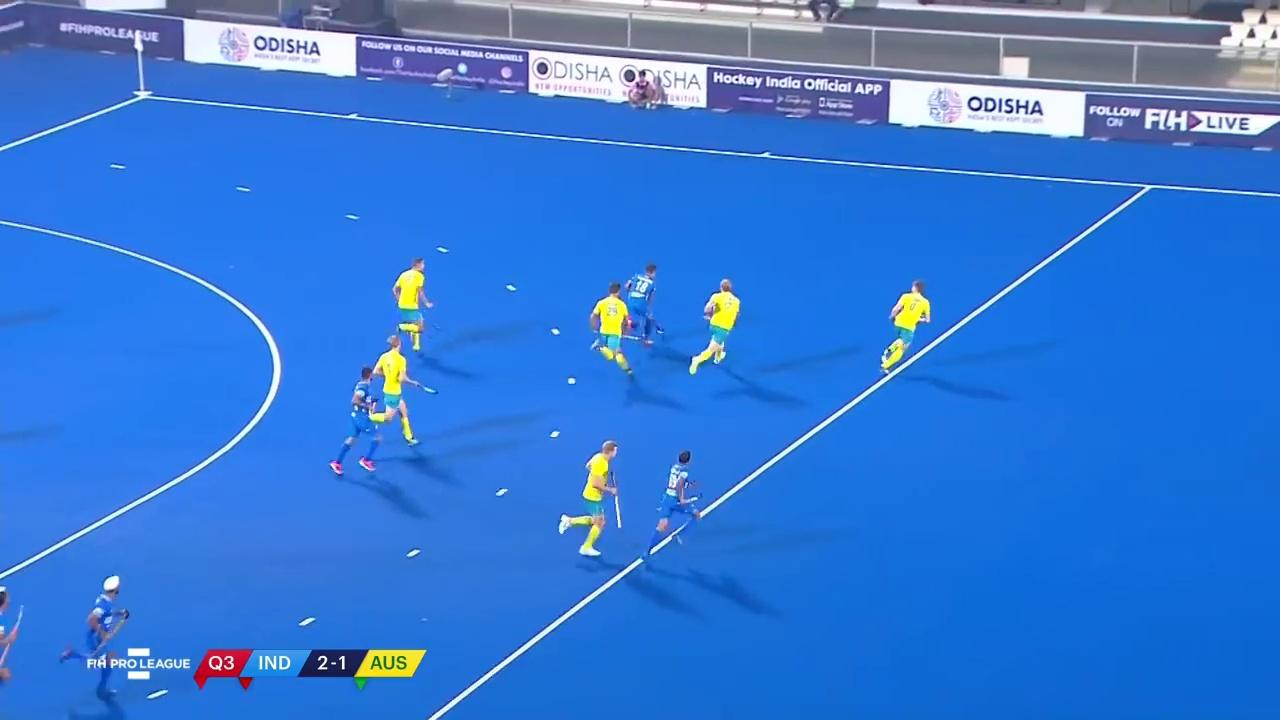ball: (651, 324, 669, 337)
